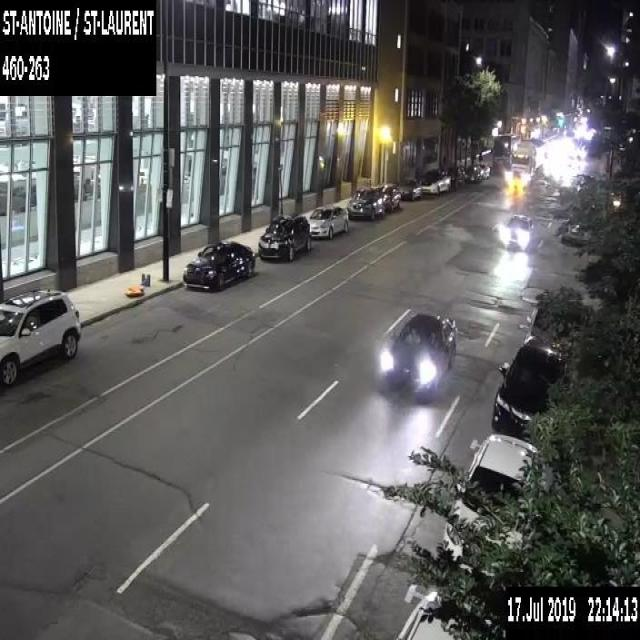bus: (492, 132, 520, 167)
construction: (124, 272, 150, 294)
vehicle: (442, 430, 546, 574), (491, 334, 568, 445), (0, 287, 81, 388), (385, 311, 456, 394), (395, 590, 505, 639), (181, 237, 255, 291), (257, 212, 310, 260), (507, 137, 544, 186), (521, 302, 558, 346), (307, 203, 348, 237), (501, 212, 533, 248), (347, 187, 384, 218), (560, 216, 588, 246), (372, 182, 401, 210), (419, 168, 450, 194), (397, 176, 421, 198), (444, 165, 464, 188), (572, 172, 594, 190), (464, 164, 479, 180), (477, 162, 489, 179)
